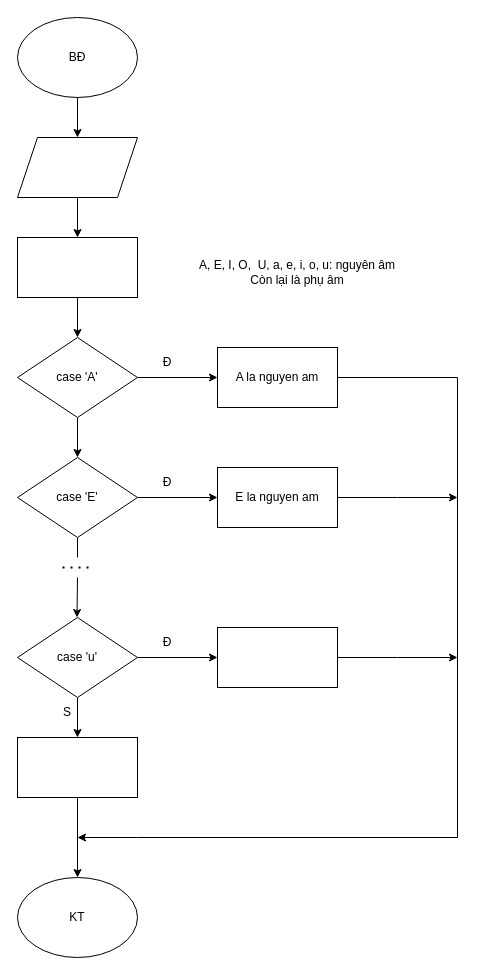
Some shapes in this 483 by 975 pixel diagram are drawn without their labels. Each missing label, with the box of its shape:
ch: (16, 136, 138, 198)
phu am: (16, 736, 138, 798)
switch(ch): (16, 236, 138, 298)
u la nguyen am: (216, 626, 338, 688)
